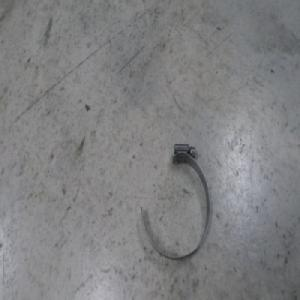AdjustableClamp: (139, 136, 210, 257)
